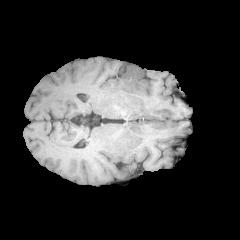glioma: (111, 63, 147, 95)
